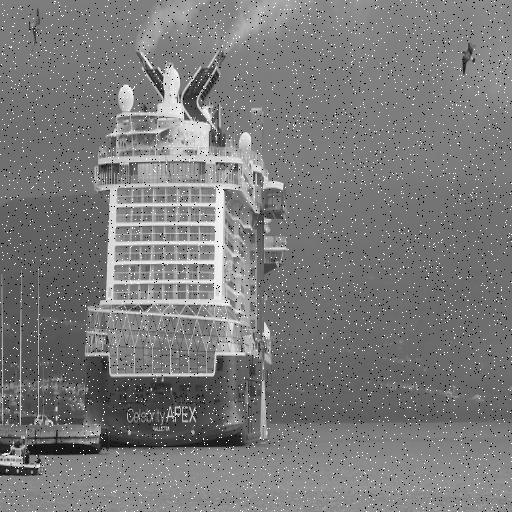cruises: (82, 46, 291, 463)
